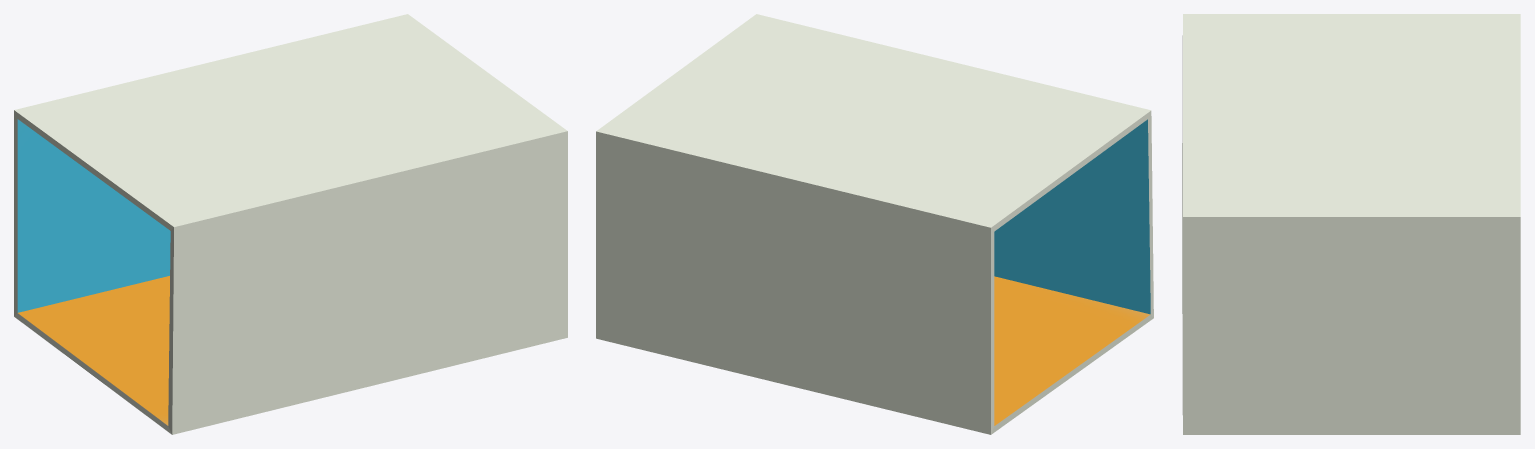
3 renders of one model, left to right at view 1: azimuth 30°, elevation 25°; view 2: azimuth 150°, elevation 25°; view 3: azimuth 270°, elevation 25°, orthographic. The views are drawn at different scales.
Parts seen in each view (by area): view 1: Cube; view 2: Cube; view 3: Cube.
Part boxes in pixels (<box>): Cube: <box>14,14,567,434</box>; Cube: <box>596,14,1153,434</box>; Cube: <box>1182,14,1520,434</box>.
Bounding box in the file's own units: 43.39 × 21.65 × 30.4.
1 material, 1 textured.
